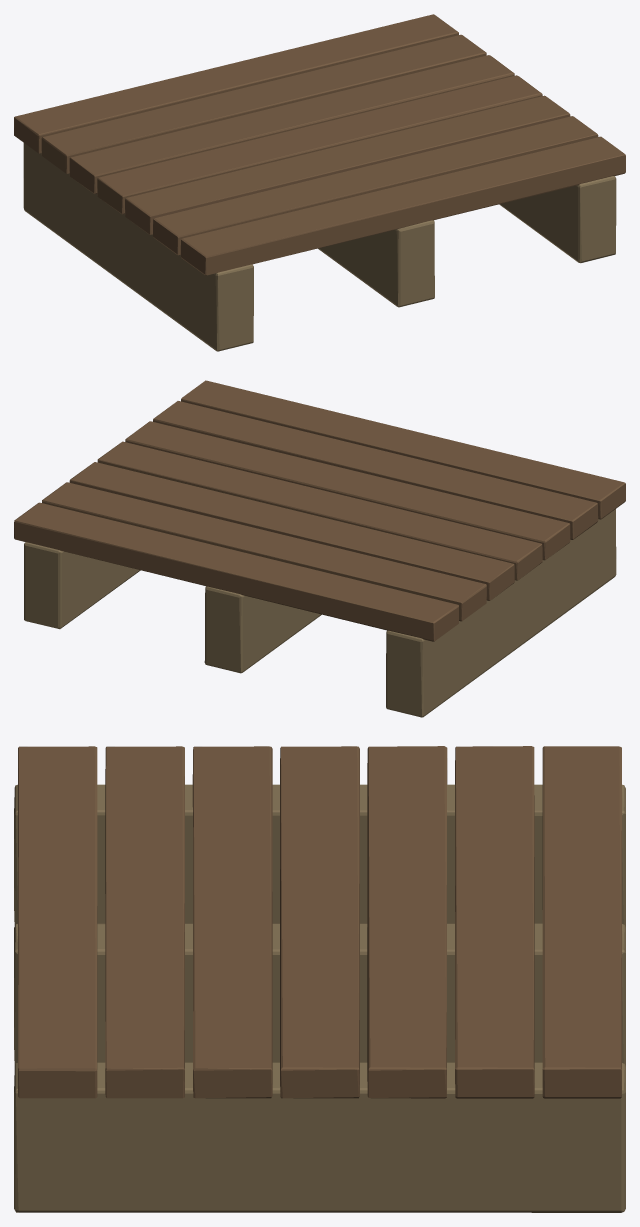
File: pallet_low.glb
3 views of the same model, one above another, from view 1: azimuth 30°, elevation 25°; view 2: azimuth 150°, elevation 25°; view 3: azimuth 270°, elevation 25° (orthographic). The views are drawn at different scales.
Visible parts, largest first — view 1: pallet.001; view 2: pallet.001; view 3: pallet.001.
Boxes of the visible parts, x1,y1,x2,y2 form: pallet.001: (14, 14, 625, 351); pallet.001: (14, 380, 625, 717); pallet.001: (14, 746, 625, 1212).
Size of the model in its own units: 1 by 0.2225 by 0.8.
